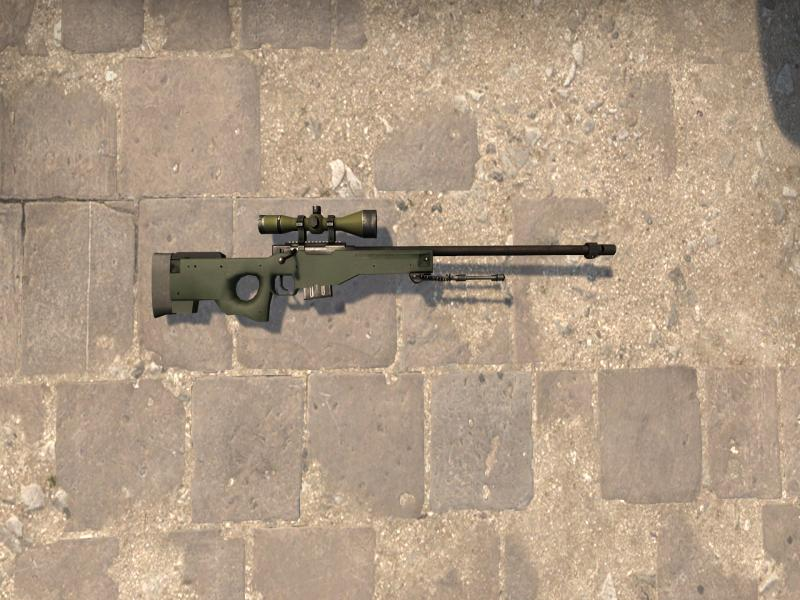AWP: (151, 205, 618, 322)
